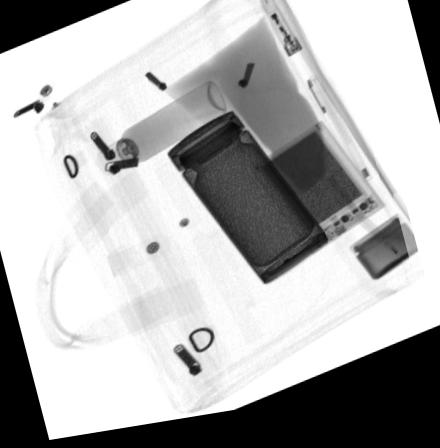Lighter: (257, 0, 304, 65)
Powerbank: (250, 128, 386, 261)
Sprayer: (95, 86, 227, 178)
